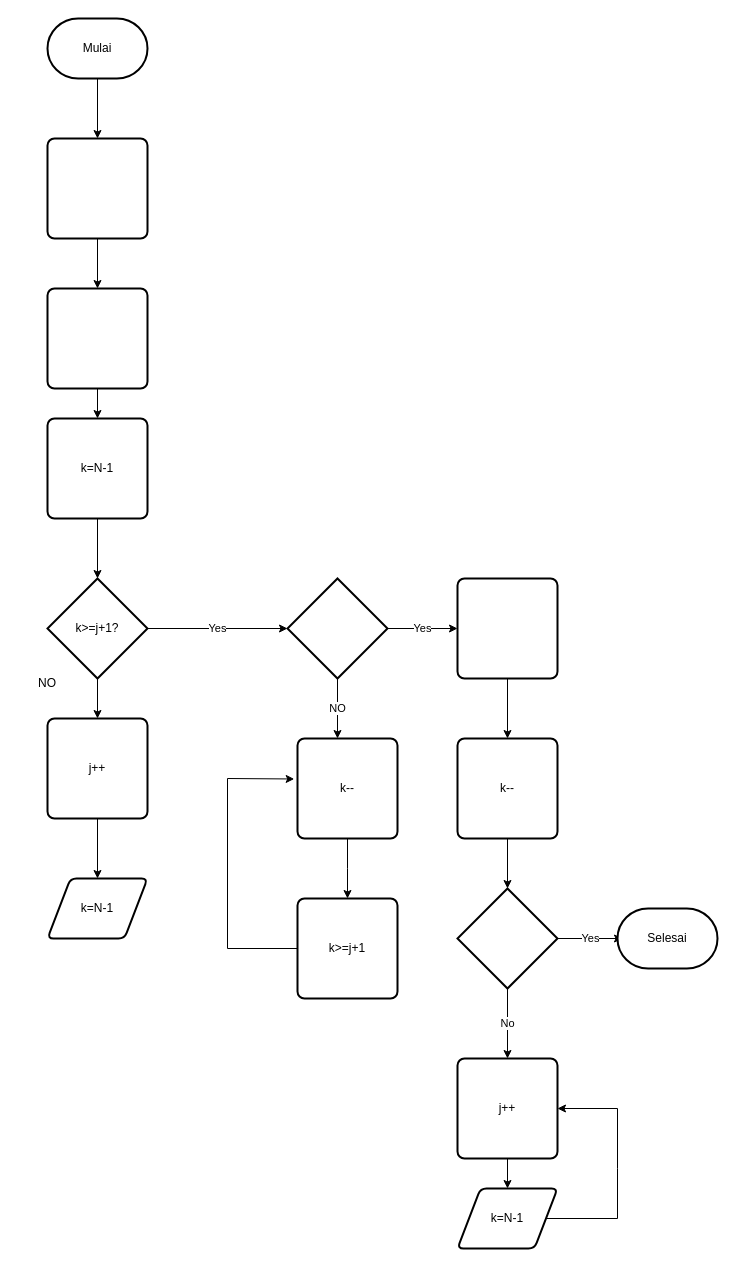
This 735x1266 diagram has some shape labels left out. Here are the shapes that lost their labels. From the top down, the centre of each, then its label:
At (x=97, y=188): "int N; int j, k; int temp;".
At (x=97, y=338): "j=0".
At (x=337, y=628): "A[k]< A[k] ?".
At (x=507, y=628): "temp = A[k], A[k] = A[k-1],A[k-1]=temp".
At (x=507, y=938): "k>=j+1 ?".
